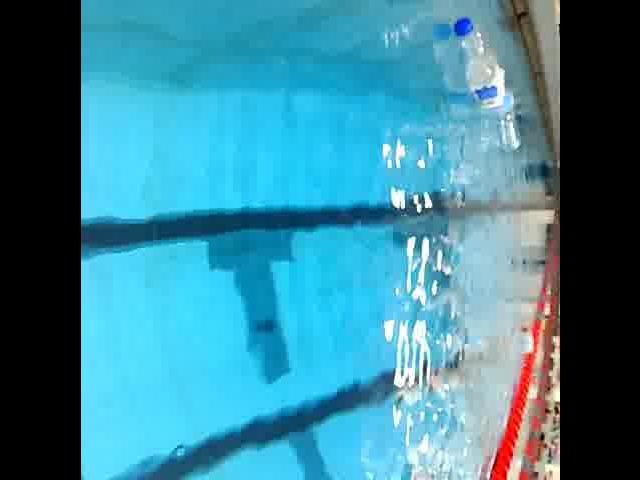Bottle: (450, 14, 508, 116), (490, 80, 526, 156)
